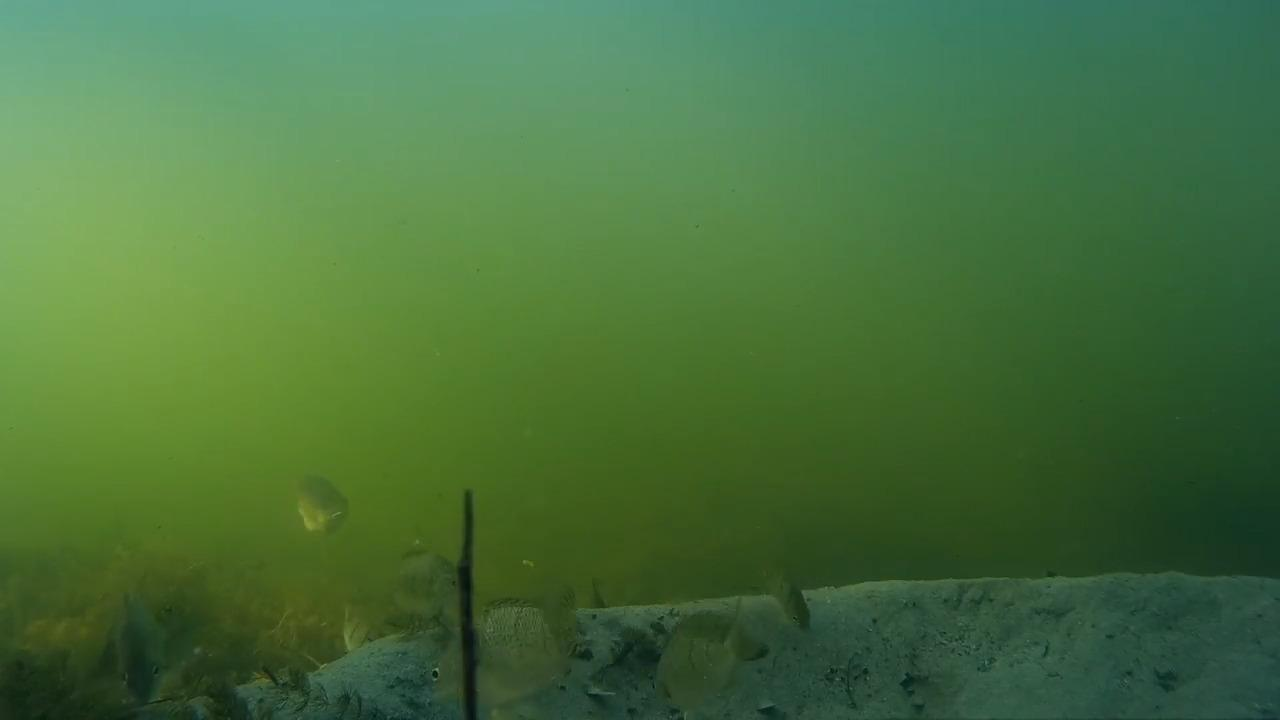Tilapia: (420, 594, 597, 720), (636, 604, 777, 720), (362, 534, 473, 650), (101, 588, 201, 710), (750, 560, 839, 650), (268, 470, 359, 546)
